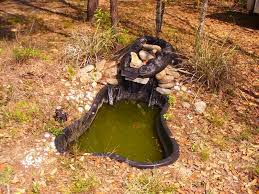container: (50, 35, 186, 177)
water: (50, 88, 184, 172)
